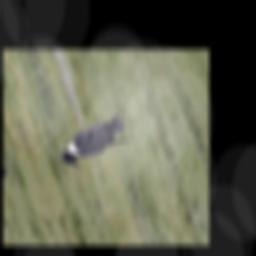Crow: (49, 112, 141, 168)
